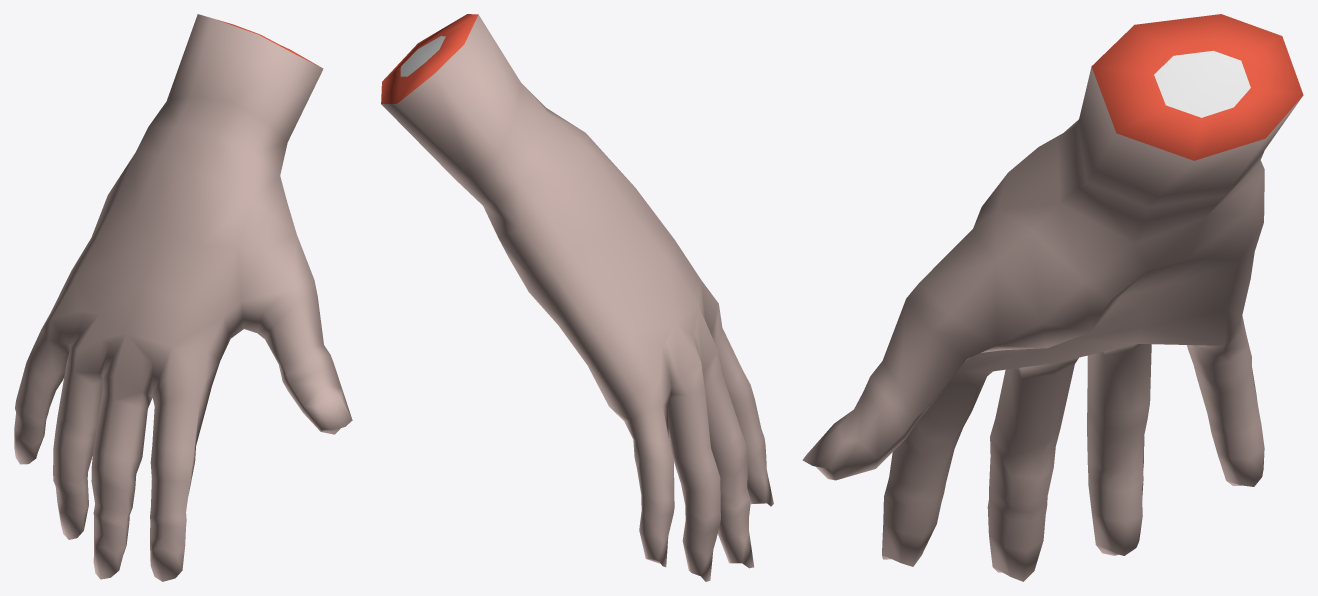
File: Hand.fbx
The picture shows the model from 3 angles, left to right: view 1: azimuth 30°, elevation 25°; view 2: azimuth 150°, elevation 25°; view 3: azimuth 270°, elevation 25°; orthographic projection. The views are drawn at different scales.
Parts seen in each view (by area): view 1: Plane005; view 2: Plane005; view 3: Plane005.
Part boxes in pixels (x1=…): Plane005: x1=14, y1=14, x2=352, y2=581; Plane005: x1=381, y1=14, x2=773, y2=581; Plane005: x1=802, y1=14, x2=1303, y2=581.
Bounding box in the file's own units: 57.15 × 94.54 × 61.95.
